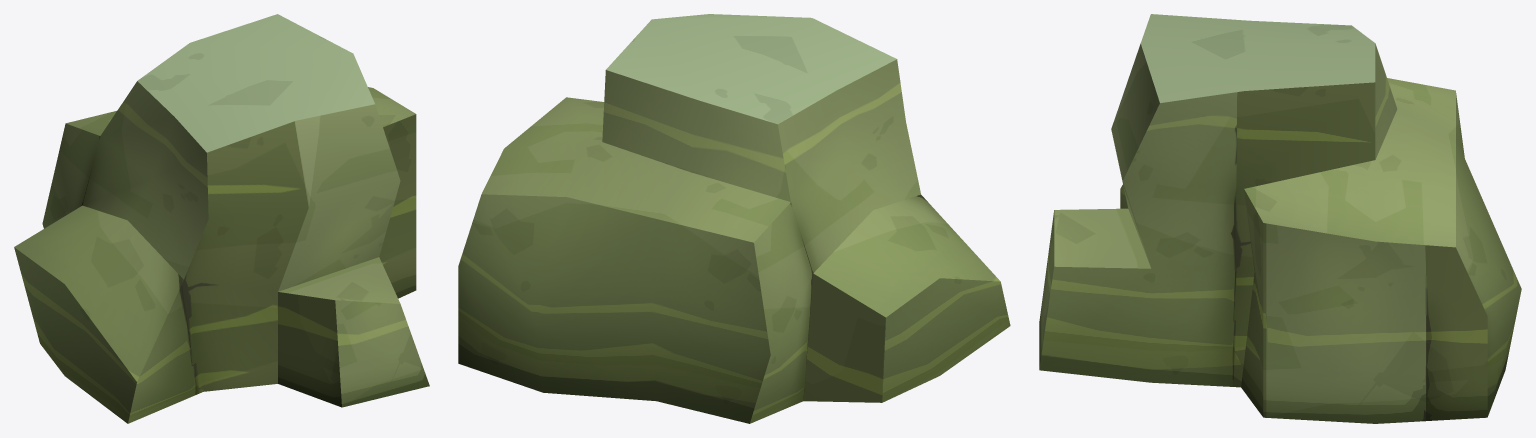
The model's file is F_W_O_rock_024.fbx.
3 views of the same model, side by side, from view 1: azimuth 30°, elevation 25°; view 2: azimuth 150°, elevation 25°; view 3: azimuth 270°, elevation 25° (orthographic). The views are drawn at different scales.
Parts seen in each view (by area): view 1: F_W_O_rock_024; view 2: F_W_O_rock_024; view 3: F_W_O_rock_024.
Part boxes in pixels (x1=…): F_W_O_rock_024: x1=14, y1=14, x2=429, y2=423; F_W_O_rock_024: x1=458, y1=14, x2=1010, y2=423; F_W_O_rock_024: x1=1039, y1=14, x2=1521, y2=423.
Size of the model in its own units: 4.36 by 2.97 by 4.52.
